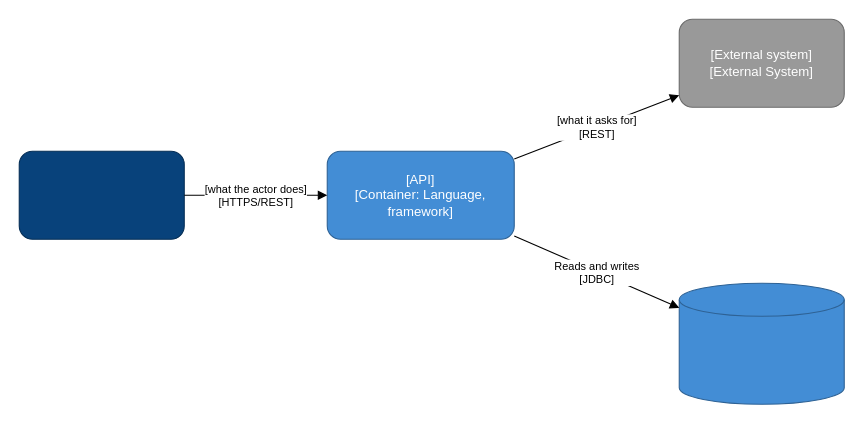
Some shapes in this 864 by 424 pixel diagram are drawn without their labels. Each missing label, with the box of its shape:
[Actor] [Person]: (18, 150, 184, 239)
[Database] [PostgreSQL]: (678, 282, 844, 404)
